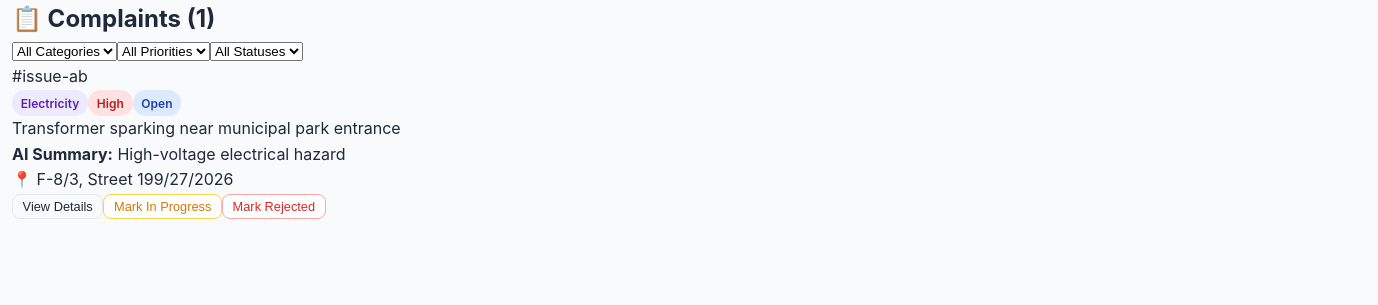
ComplaintsPage › surfaces server 409 conflict error verbatim matching the attempted transition
Expected: the text "Transformer sparking near municipal park entrance" is shown, x1=12 y1=118 x2=401 y2=138
What coordinates should you click on to do the following:
click the button "Mark In Progress"
I would click on:
 (163, 206)
Its box is x1=103 y1=194 x2=222 y2=219.
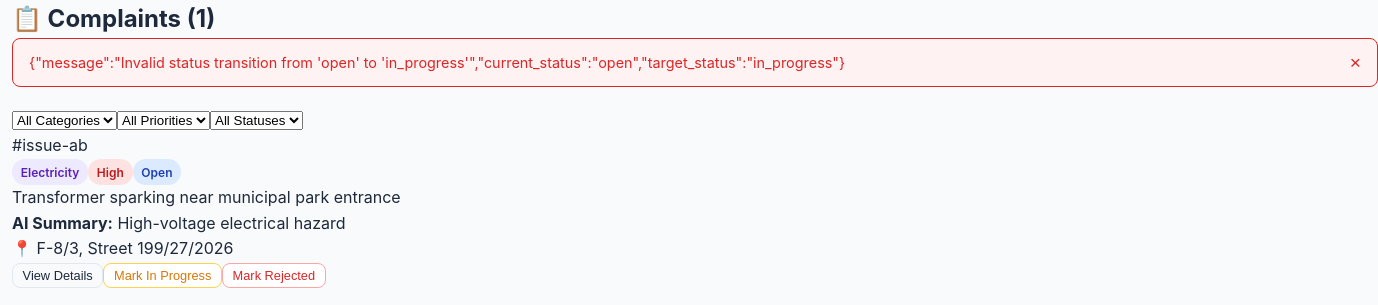
Expected: the text "Invalid status transition from 'open' to 'in_progress'" is shown, x1=29 y1=54 x2=845 y2=71
